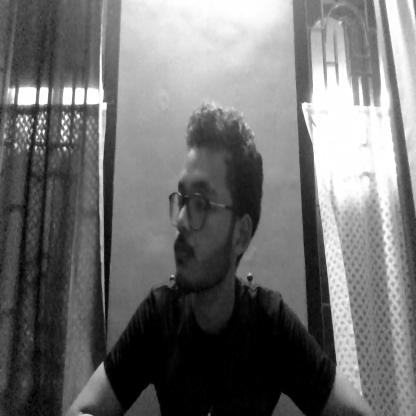Distracted: (175, 104, 256, 291)
